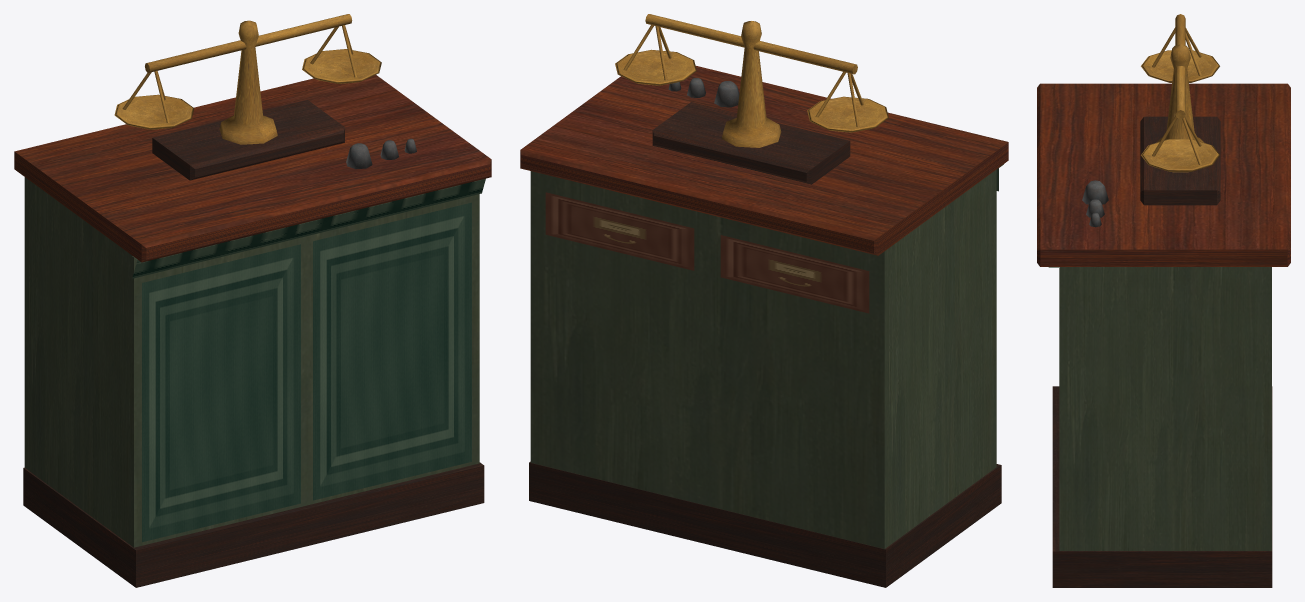
Rendered from city1880-scale-counter.gltf.
The picture shows the model from 3 angles, left to right: view 1: azimuth 30°, elevation 25°; view 2: azimuth 150°, elevation 25°; view 3: azimuth 270°, elevation 25°; orthographic projection. The views are drawn at different scales.
Parts seen in each view (by area): view 1: Sales counter with balance scale; view 2: Sales counter with balance scale; view 3: Sales counter with balance scale.
Part boxes in pixels (x1,y1,x2,y2): Sales counter with balance scale: (14, 14, 491, 587); Sales counter with balance scale: (520, 14, 1008, 587); Sales counter with balance scale: (1037, 14, 1290, 587).
Size of the model in its own units: 0.998 by 1.3 by 0.645.
Materials: 2 (2 with a texture image).
